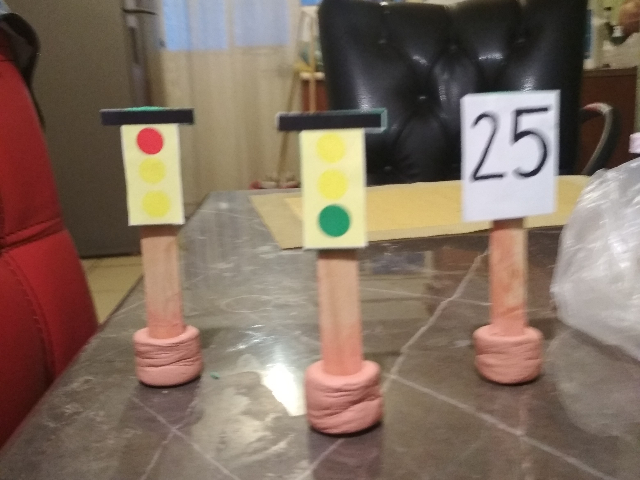Green: (276, 106, 385, 251)
Limit 25: (458, 88, 561, 222)
Red: (98, 103, 196, 229)
